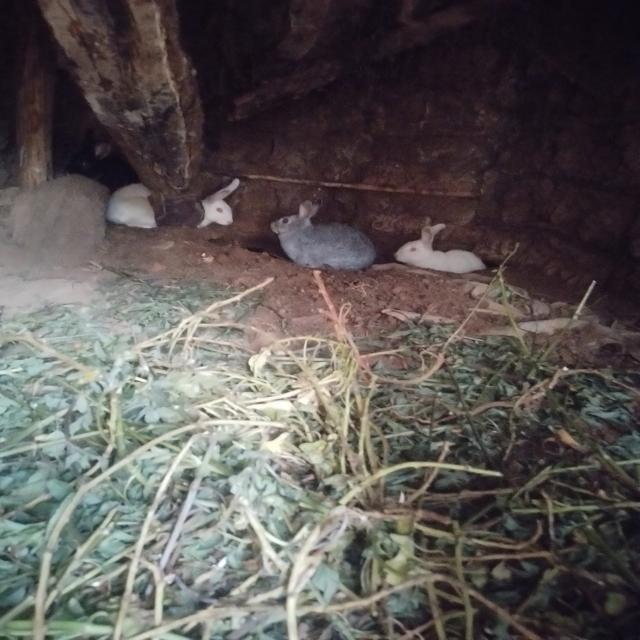rabbit: (266, 192, 381, 275)
